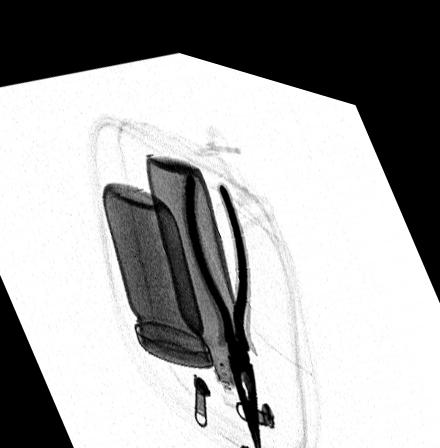Pliers: (182, 161, 260, 441)
